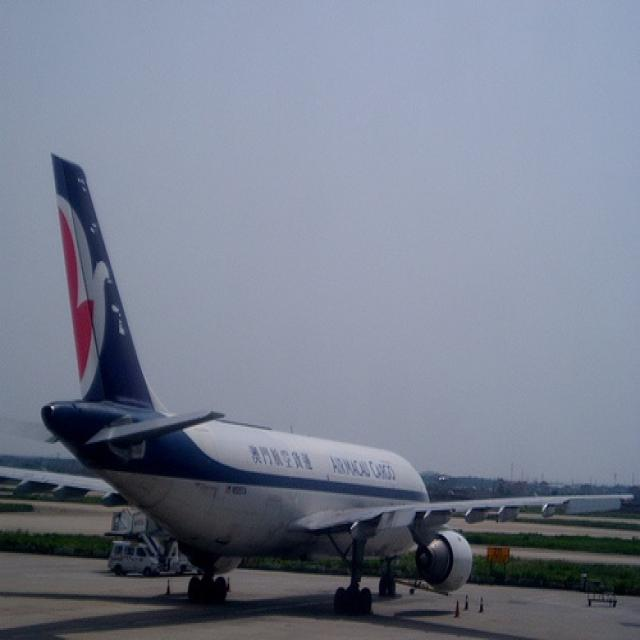aeroplane: (40, 150, 635, 613)
car: (108, 538, 158, 578)
